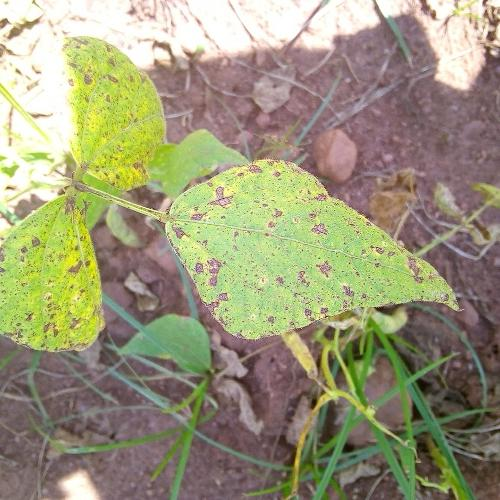mozaik: (126, 123, 462, 340), (3, 182, 109, 354), (58, 32, 174, 182)
